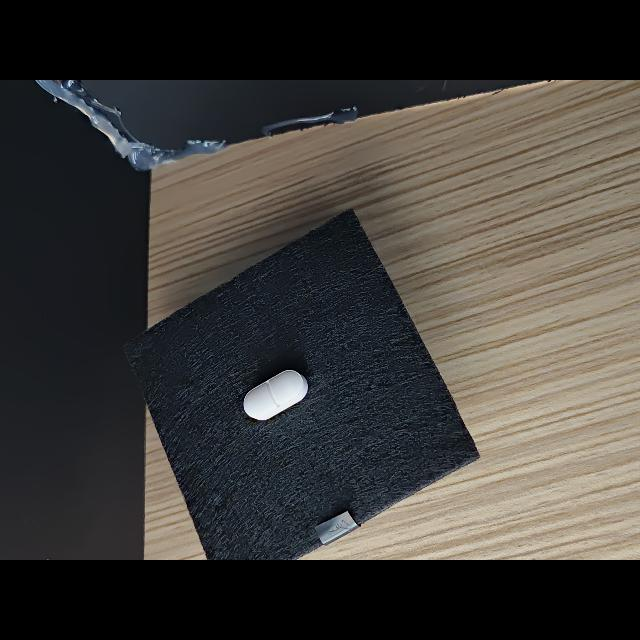Intact Pill: (244, 370, 308, 420)
